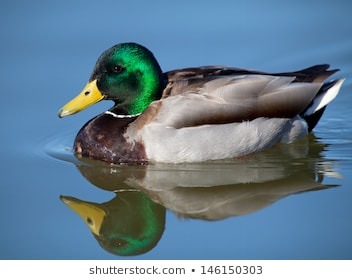duck: (37, 27, 346, 178), (32, 168, 345, 258)
